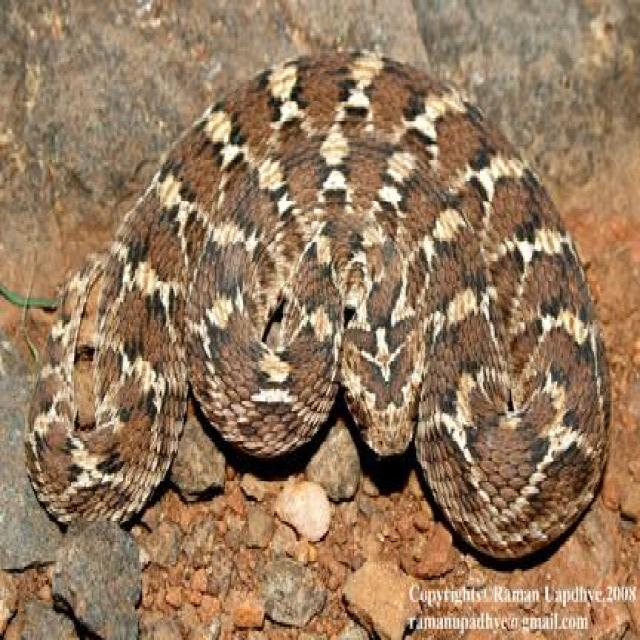Snake: (22, 44, 612, 560)
